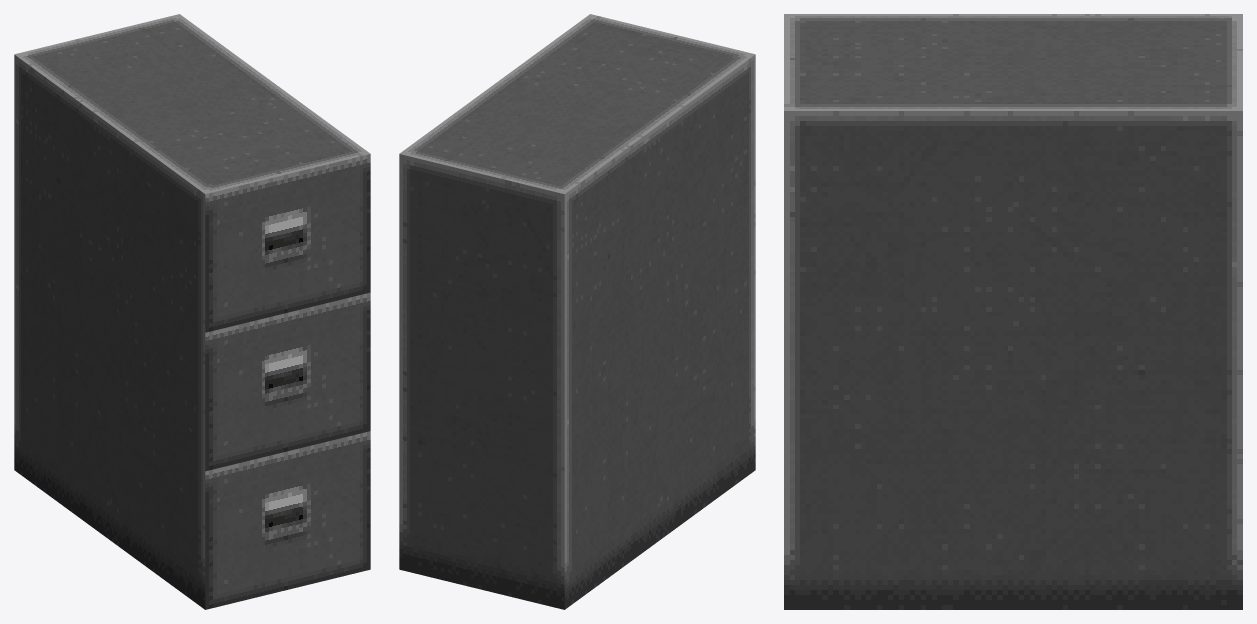
The model's file is file_cabinet01.glb.
The picture shows the model from 3 angles, left to right: view 1: azimuth 30°, elevation 25°; view 2: azimuth 150°, elevation 25°; view 3: azimuth 270°, elevation 25°; orthographic projection. The views are drawn at different scales.
Parts seen in each view (by area): view 1: file_cabinet01; view 2: file_cabinet01; view 3: file_cabinet01.
Boxes of the visible parts, x1=… form: file_cabinet01: x1=14, y1=14, x2=370, y2=609; file_cabinet01: x1=399, y1=14, x2=755, y2=609; file_cabinet01: x1=784, y1=14, x2=1242, y2=609.
Bounding box in the file's own units: 0.5 × 1.2 × 1.
1 material, 1 textured.
